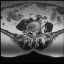CCS_normal: (33, 29, 35, 38)
LFS_normal: (37, 28, 39, 35)
LLS_normal: (35, 29, 37, 36)
RFS_normal: (29, 28, 31, 34)
RLS_normal: (31, 29, 33, 36)
